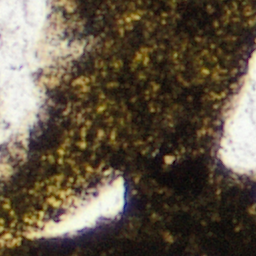cement_matrix: (0, 0, 255, 255), (24, 174, 126, 239)
gravel_crushed_stones: (0, 0, 85, 179), (25, 175, 125, 238), (217, 48, 255, 176), (0, 235, 14, 242)
